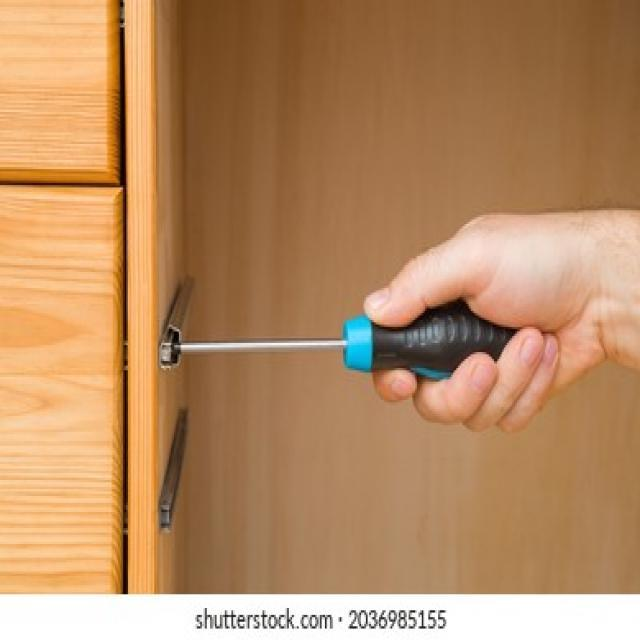screwdriver: (168, 302, 528, 379)
